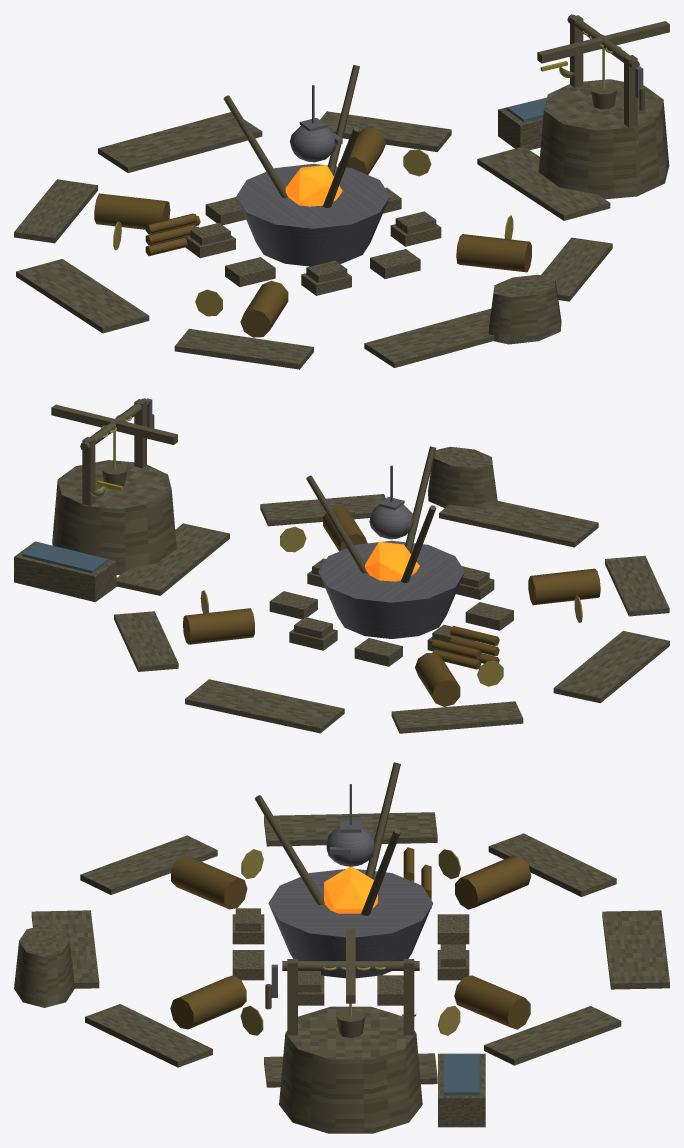
File: baseline.glb
3 views of the same model, one above another, from view 1: azimuth 30°, elevation 25°; view 2: azimuth 150°, elevation 25°; view 3: azimuth 270°, elevation 25° (orthographic). The views are drawn at different scales.
Parts seen in each view (by area): view 1: pz3_3, well_drum, pz3_0, pz3_1, pz3_4, fire, pz3_2, pz3_5, pz_kettle, pz3_7, well_bucket; view 2: pz3_3, well_drum, pz3_0, pz3_1, pz3_4, pz3_5, fire, pz3_2, pz3_7, pz_kettle; view 3: pz3_3, well_drum, pz3_0, pz3_1, pz3_4, pz3_2, fire, pz3_7, pz_kettle, well_bucket, pz3_5.
Boxes of the visible parts, x1,y1,x2,y2 form: pz3_3: [14, 107, 612, 369]; well_drum: [538, 79, 669, 199]; pz3_0: [236, 66, 643, 266]; pz3_1: [94, 128, 531, 337]; pz3_4: [223, 14, 669, 207]; fire: [285, 165, 342, 206]; pz3_2: [113, 149, 513, 316]; pz3_5: [145, 213, 200, 256]; pz_kettle: [289, 126, 336, 162]; pz3_7: [506, 97, 546, 122]; well_bucket: [590, 83, 616, 109]; pz3_3: [14, 446, 669, 733]; well_drum: [52, 460, 176, 575]; pz3_0: [147, 398, 464, 638]; pz3_1: [183, 506, 600, 706]; pz3_4: [51, 398, 436, 582]; pz3_5: [432, 625, 499, 669]; fire: [365, 541, 419, 581]; pz3_2: [200, 526, 582, 686]; pz3_7: [22, 542, 108, 573]; pz_kettle: [369, 504, 414, 539]; pz3_3: [14, 812, 669, 1127]; well_drum: [279, 1006, 422, 1133]; pz3_0: [268, 784, 433, 997]; pz3_1: [170, 855, 531, 1029]; pz3_4: [254, 762, 419, 1035]; pz3_2: [240, 849, 460, 1035]; fire: [324, 866, 377, 913]; pz3_7: [444, 1054, 479, 1095]; pz_kettle: [326, 827, 374, 866]; well_bucket: [336, 1009, 365, 1037]; pz3_5: [403, 847, 431, 908].
Bounding box in the file's own units: 7.17 × 1.81 × 6.21.
4 materials, 3 textured.
